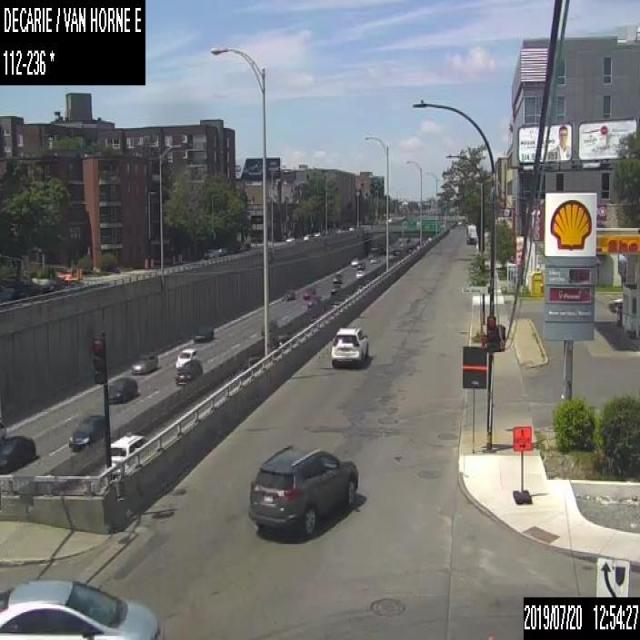construction: (511, 424, 531, 502), (78, 267, 82, 279), (144, 257, 147, 268), (171, 254, 174, 265), (150, 256, 152, 268), (76, 268, 78, 279)
vehicle: (247, 441, 358, 535), (0, 574, 163, 638), (330, 326, 368, 366), (68, 413, 104, 452), (0, 433, 36, 471), (109, 431, 148, 465), (106, 373, 138, 404), (174, 360, 202, 382), (131, 351, 158, 373), (174, 347, 197, 368), (608, 295, 636, 312), (192, 326, 214, 342), (464, 223, 476, 243), (302, 284, 315, 298), (202, 248, 218, 258), (307, 295, 320, 307), (283, 289, 295, 299), (330, 284, 340, 294), (216, 246, 226, 255), (350, 256, 359, 265), (356, 268, 364, 278), (332, 274, 341, 282), (284, 236, 294, 243), (334, 266, 342, 274), (356, 260, 364, 268), (369, 255, 377, 263), (303, 233, 311, 240)
